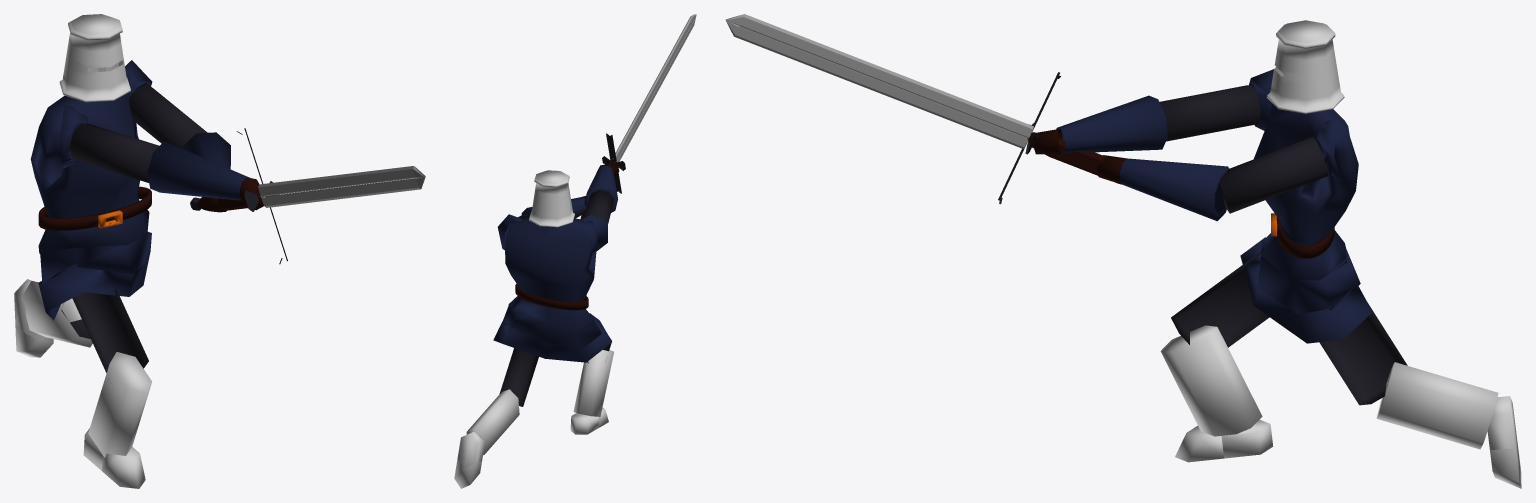
The model's file is Knight_Sword_Oberhau.obj.
3 renders of one model, left to right at view 1: azimuth 30°, elevation 25°; view 2: azimuth 150°, elevation 25°; view 3: azimuth 270°, elevation 25°, orthographic. The views are drawn at different scales.
Visible parts, largest first — view 1: Armor_Cylinder.002, Helmet_Cylinder.013, Boot_Right_Cylinder.005, Blade_Cube.002, Forearm_Right_Cylinder.006, Leg_Right_Cylinder.023, Arm_Right_Cylinder.012, Arm_Left_Cylinder.018, Boot_Left_Cylinder.022, BootTip_Right_Cylinder.008, Belt_Cylinder.009, BootTip_Left_Cylinder.011 (+3 smaller); view 2: Armor_Cylinder.002, Helmet_Cylinder.013, Boot_Right_Cylinder.005, Boot_Left_Cylinder.022, Blade_Cube.002, Leg_Left_Cylinder.017, BootTip_Left_Cylinder.011, Forearm_Right_Cylinder.006, Belt_Cylinder.009, Arm_Right_Cylinder.012, BootTip_Right_Cylinder.008, Crossguard_Cube.001 (+1 smaller); view 3: Armor_Cylinder.002, Blade_Cube.002, Boot_Right_Cylinder.005, Boot_Left_Cylinder.022, Helmet_Cylinder.013, Arm_Left_Cylinder.018, Forearm_Right_Cylinder.006, Forearm_Left_Cylinder.019, Leg_Left_Cylinder.017, Leg_Right_Cylinder.023, Arm_Right_Cylinder.012, BootTip_Right_Cylinder.008 (+3 smaller).
Boxes of the visible parts, bbox=[...] form: Armor_Cylinder.002: bbox=[30, 60, 152, 320]; Helmet_Cylinder.013: bbox=[59, 14, 130, 102]; Boot_Right_Cylinder.005: bbox=[88, 352, 152, 457]; Blade_Cube.002: bbox=[258, 166, 425, 207]; Forearm_Right_Cylinder.006: bbox=[147, 141, 249, 200]; Leg_Right_Cylinder.023: bbox=[72, 285, 148, 382]; Arm_Right_Cylinder.012: bbox=[69, 123, 159, 182]; Arm_Left_Cylinder.018: bbox=[129, 84, 207, 148]; Boot_Left_Cylinder.022: bbox=[21, 281, 92, 347]; BootTip_Right_Cylinder.008: bbox=[83, 428, 145, 488]; Belt_Cylinder.009: bbox=[38, 186, 151, 230]; BootTip_Left_Cylinder.011: bbox=[14, 279, 53, 357]; Armor_Cylinder.002: bbox=[493, 214, 611, 362]; Helmet_Cylinder.013: bbox=[529, 170, 574, 227]; Boot_Right_Cylinder.005: bbox=[573, 350, 613, 416]; Boot_Left_Cylinder.022: bbox=[466, 389, 519, 455]; Blade_Cube.002: bbox=[612, 14, 696, 162]; Leg_Left_Cylinder.017: bbox=[499, 348, 538, 406]; BootTip_Left_Cylinder.011: bbox=[454, 431, 485, 488]; Forearm_Right_Cylinder.006: bbox=[584, 165, 617, 212]; Belt_Cylinder.009: bbox=[515, 283, 588, 310]; Arm_Right_Cylinder.012: bbox=[583, 190, 613, 223]; BootTip_Right_Cylinder.008: bbox=[570, 407, 608, 434]; Crossguard_Cube.001: bbox=[602, 133, 625, 193]; Armor_Cylinder.002: bbox=[1240, 69, 1372, 343]; Blade_Cube.002: bbox=[725, 14, 1033, 148]; Boot_Right_Cylinder.005: bbox=[1160, 325, 1262, 436]; Boot_Left_Cylinder.022: bbox=[1376, 362, 1498, 449]; Helmet_Cylinder.013: bbox=[1267, 20, 1344, 113]; Arm_Left_Cylinder.018: bbox=[1219, 136, 1328, 213]; Forearm_Right_Cylinder.006: bbox=[1056, 95, 1167, 153]; Forearm_Left_Cylinder.019: bbox=[1119, 158, 1229, 221]; Leg_Left_Cylinder.017: bbox=[1319, 303, 1407, 405]; Leg_Right_Cylinder.023: bbox=[1171, 251, 1269, 347]; Arm_Right_Cylinder.012: bbox=[1159, 85, 1260, 141]; BootTip_Right_Cylinder.008: bbox=[1175, 419, 1273, 462].
Size of the model in its own units: 3.74 by 10.07 by 15.08.
